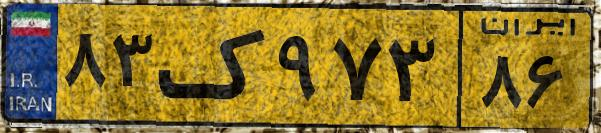3: (385, 28, 445, 110), (110, 28, 158, 98)
6: (525, 38, 570, 115)
7: (330, 28, 385, 110)
8: (57, 26, 110, 100), (475, 38, 525, 113)
9: (270, 28, 330, 110)
ک: (158, 12, 270, 120)
